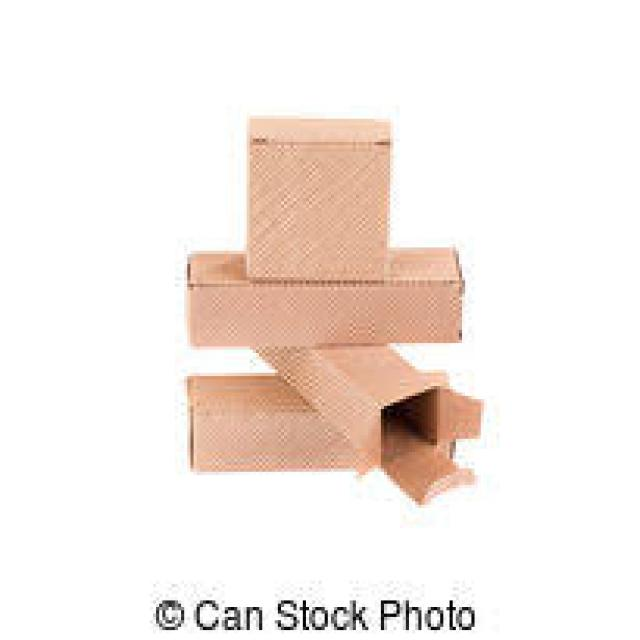cardboard: (250, 340, 478, 505), (237, 113, 387, 281), (184, 251, 462, 340), (184, 373, 453, 462)
